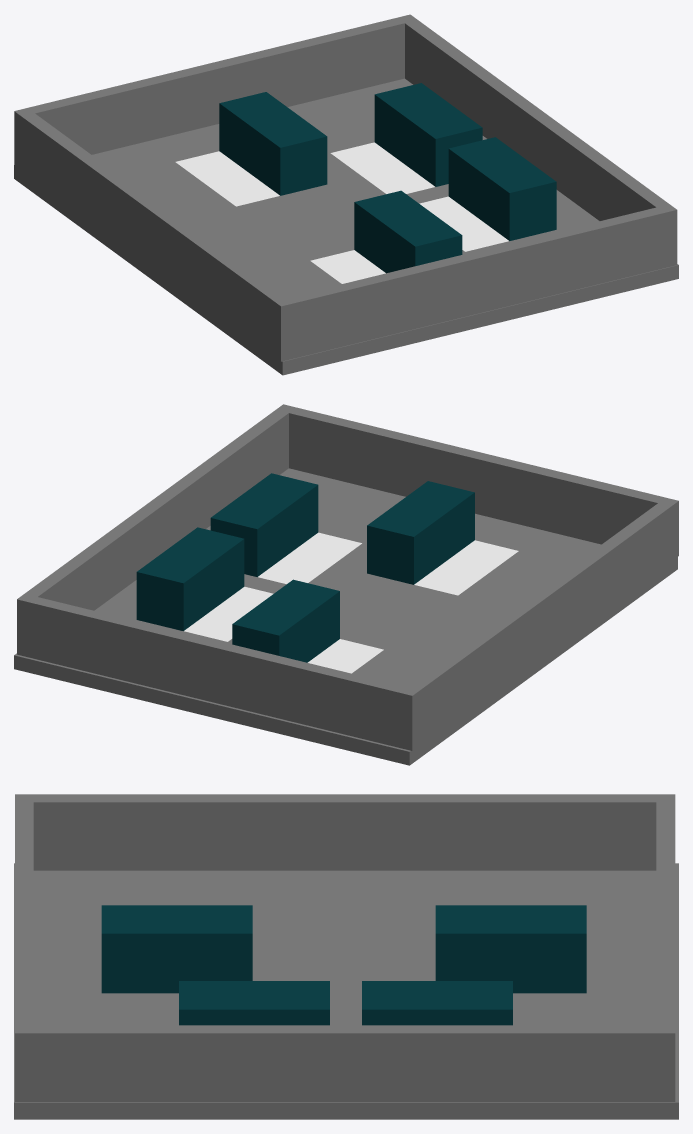
The model's file is Basic_Demo_Layout_FBX.fbx.
3 views of the same model, one above another, from view 1: azimuth 30°, elevation 25°; view 2: azimuth 150°, elevation 25°; view 3: azimuth 270°, elevation 25° (orthographic). The views are drawn at different scales.
Visible parts, largest first — view 1: Basic_Demo_Layout; view 2: Basic_Demo_Layout; view 3: Basic_Demo_Layout.
Part boxes in pixels (<box>): Basic_Demo_Layout: <box>14,14,678,375</box>; Basic_Demo_Layout: <box>14,404,678,765</box>; Basic_Demo_Layout: <box>14,794,678,1119</box>.
Bounding box in the file's own units: 30.1 × 35.25 × 5.
